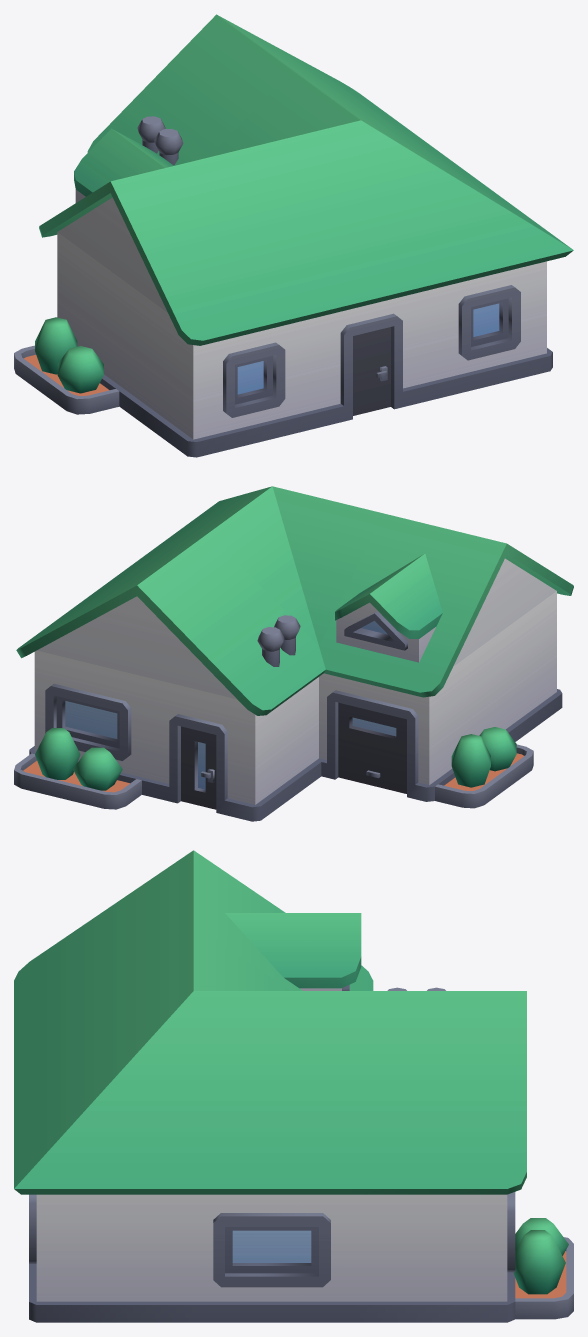
File: house_m.glb
3 renders of one model, top to bottom at view 1: azimuth 30°, elevation 25°; view 2: azimuth 150°, elevation 25°; view 3: azimuth 270°, elevation 25°, orthographic. The views are drawn at different scales.
Parts seen in each view (by area): view 1: building-type-m; view 2: building-type-m; view 3: building-type-m.
Boxes of the visible parts, x1,y1,x2,y2 form: building-type-m: [14, 14, 573, 457]; building-type-m: [14, 486, 573, 821]; building-type-m: [14, 850, 573, 1322].
Size of the model in its own units: 11.42 by 5.9 by 11.42.
Materials: 1 (1 with a texture image).
